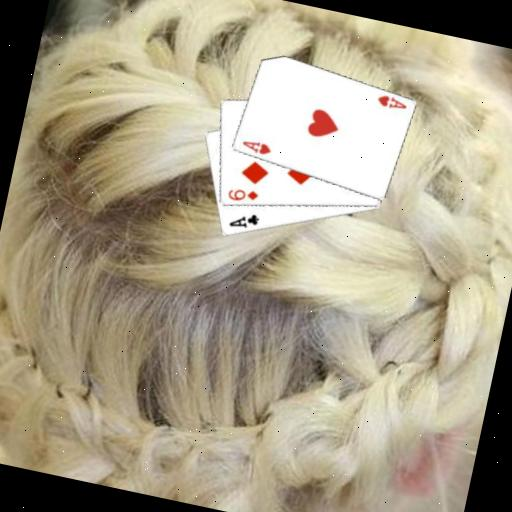6D: (223, 182, 260, 207)
AC: (225, 206, 261, 233)
AH: (372, 90, 409, 113), (237, 135, 273, 157)
